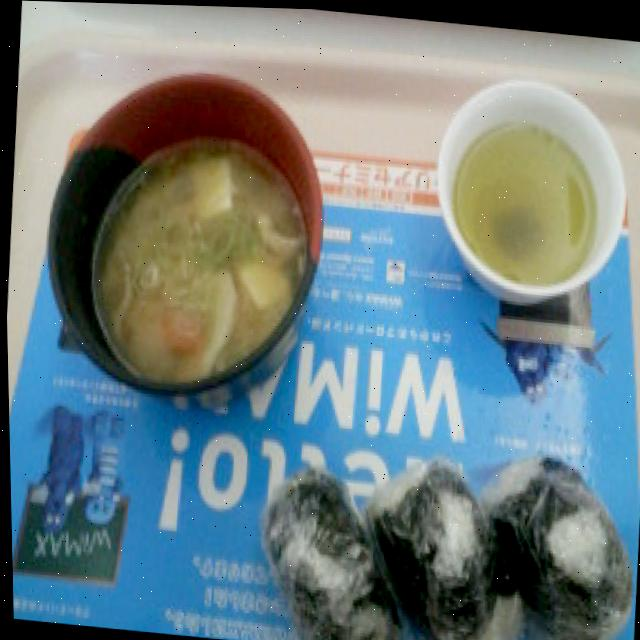米饭主食: (364, 439, 511, 640), (483, 456, 637, 640), (259, 466, 401, 640)
